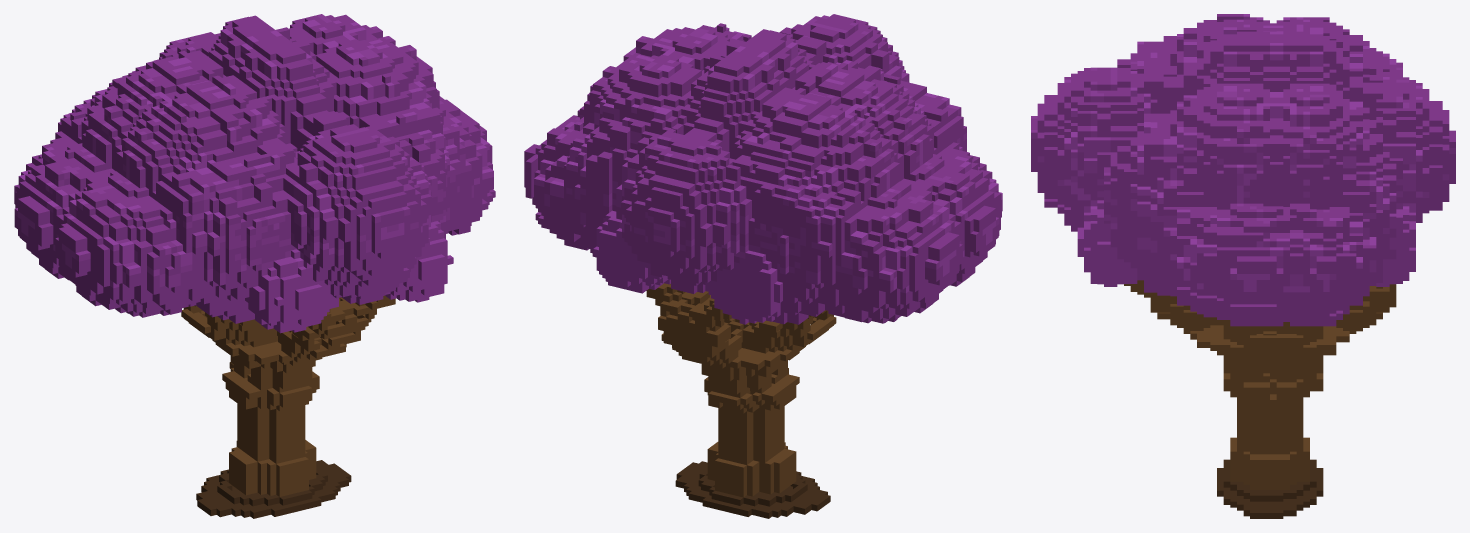
The model's file is 1_3 ipe.obj.
The picture shows the model from 3 angles, left to right: view 1: azimuth 30°, elevation 25°; view 2: azimuth 150°, elevation 25°; view 3: azimuth 270°, elevation 25°; orthographic projection. The views are drawn at different scales.
Bounding box in the file's own units: 7.2 × 7.4 × 6.4.
1 material, 1 textured.
